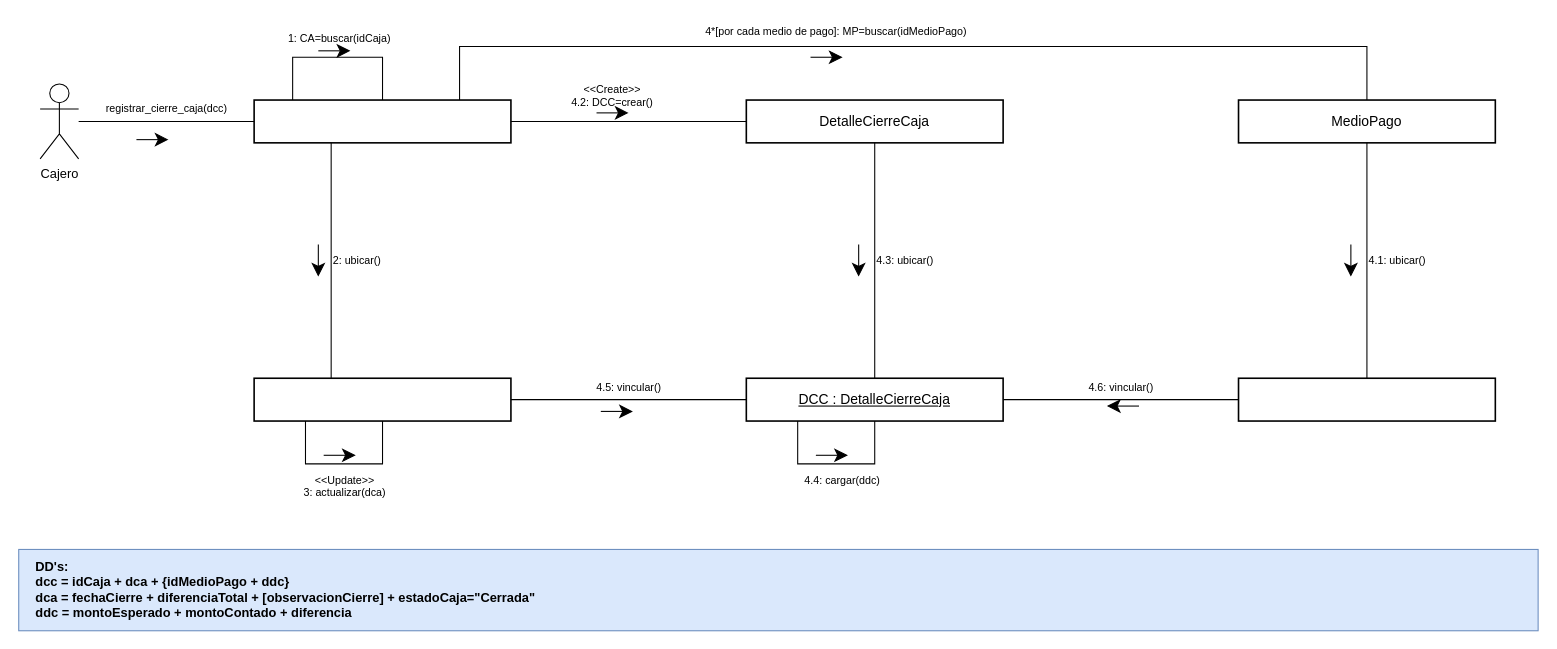
Image size: 1557x649. Some labels were removed from this diagram. The centre of each missing label's shape, as x and y in pixels:
"CA : Caja" goes at point (382, 399).
"Caja" goes at point (382, 121).
"MP : MedioPago" goes at point (1366, 399).
